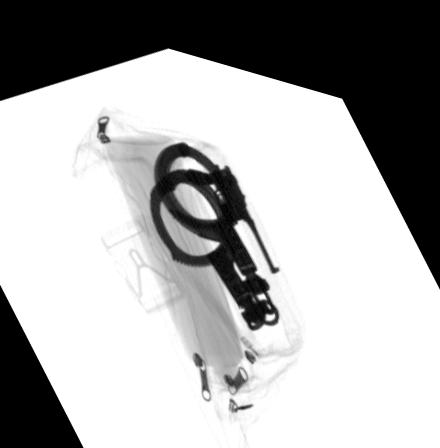Gun: (186, 150, 281, 258)
HandCuffs: (147, 129, 283, 317)
